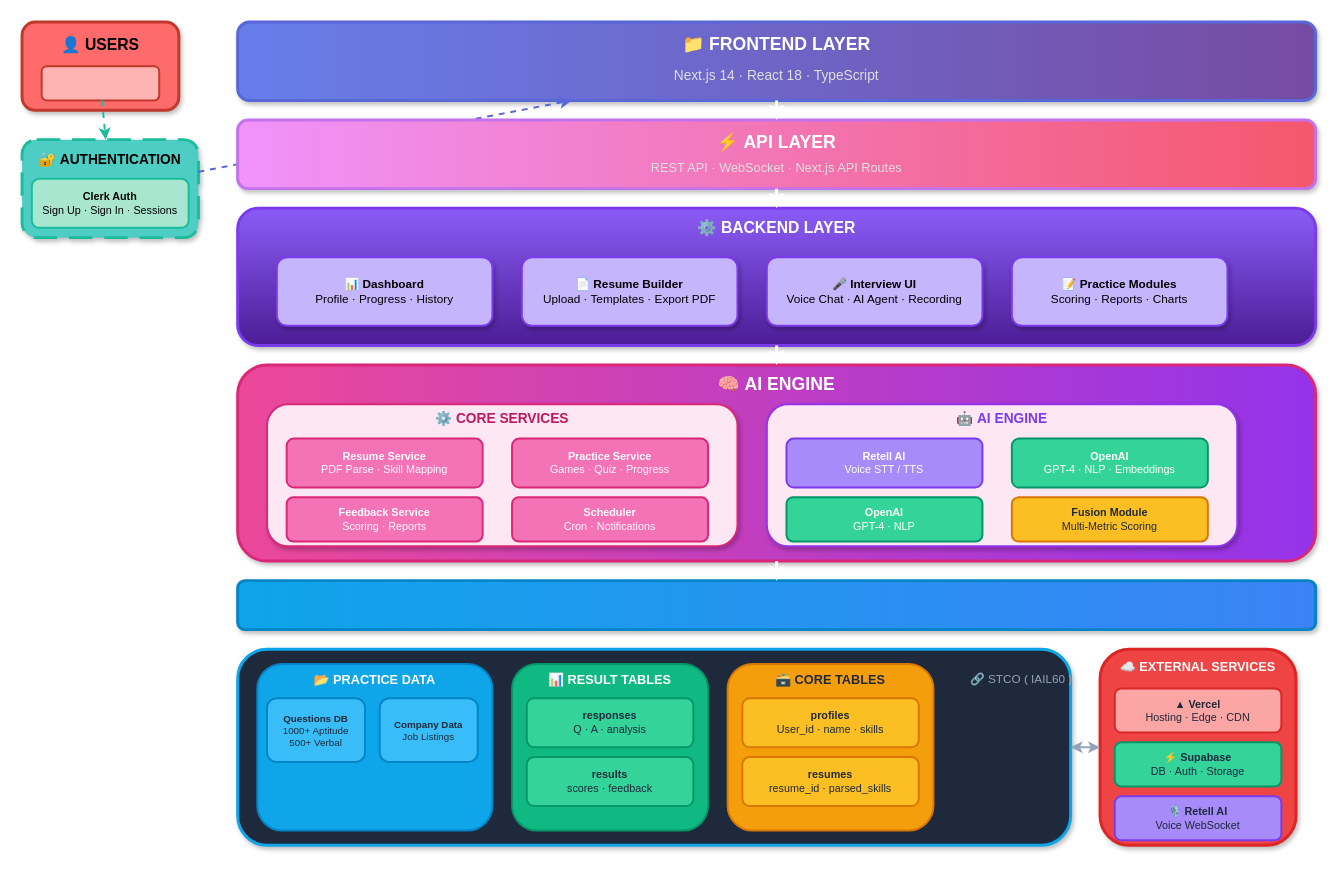
The diagram is 1340 pixels wide and 870 high, and some of its shapes have lost their labels. The shapes that lost their labels are listed below. From the top down, each one's centre as x and y in pixels, then its label:
the point at 100,83: Candidates
the point at 777,606: 💾 DATA LAYER • Supabase PostgreSQL
